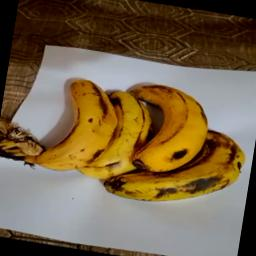Banana Unripe: (46, 68, 150, 194), (117, 74, 218, 186), (96, 148, 241, 221)
